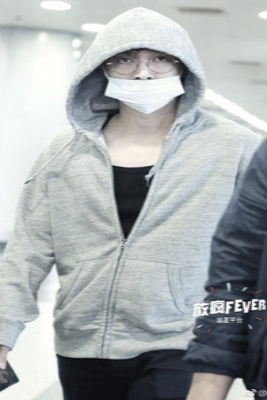mask_weared_incorrect: (100, 50, 185, 114)
